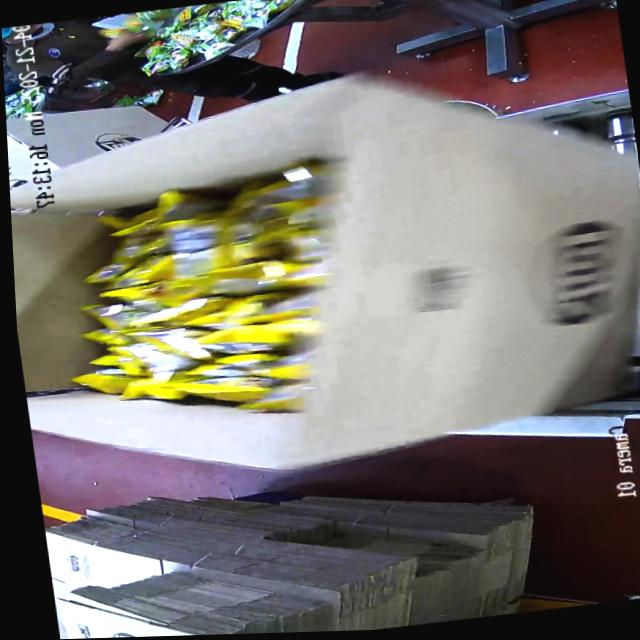SALTED: (46, 165, 362, 424)
